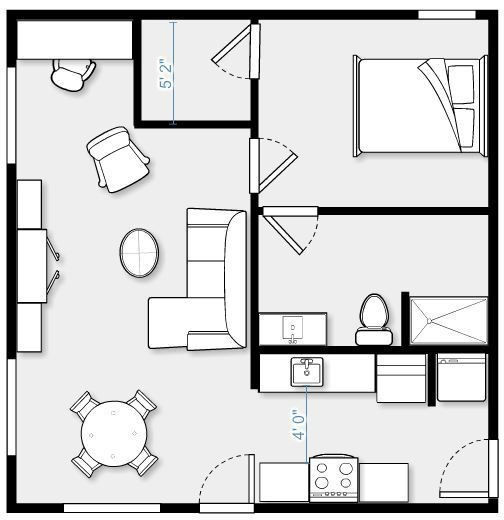door: (431, 423, 504, 507), (188, 433, 261, 508), (257, 195, 336, 258), (248, 128, 308, 199), (208, 20, 264, 85)
room: (8, 12, 254, 511), (255, 9, 495, 216), (258, 355, 504, 507), (254, 209, 502, 357), (131, 8, 257, 123)
wall: (2, 1, 420, 26), (484, 4, 502, 440), (249, 335, 504, 358), (242, 190, 268, 400), (315, 200, 504, 227), (254, 499, 504, 519), (1, 161, 21, 360), (123, 6, 153, 134), (128, 109, 263, 133), (1, 453, 28, 515), (245, 79, 271, 139), (3, 499, 65, 520), (160, 495, 203, 520)
window: (62, 491, 162, 520), (1, 355, 24, 456), (422, 2, 483, 25)
